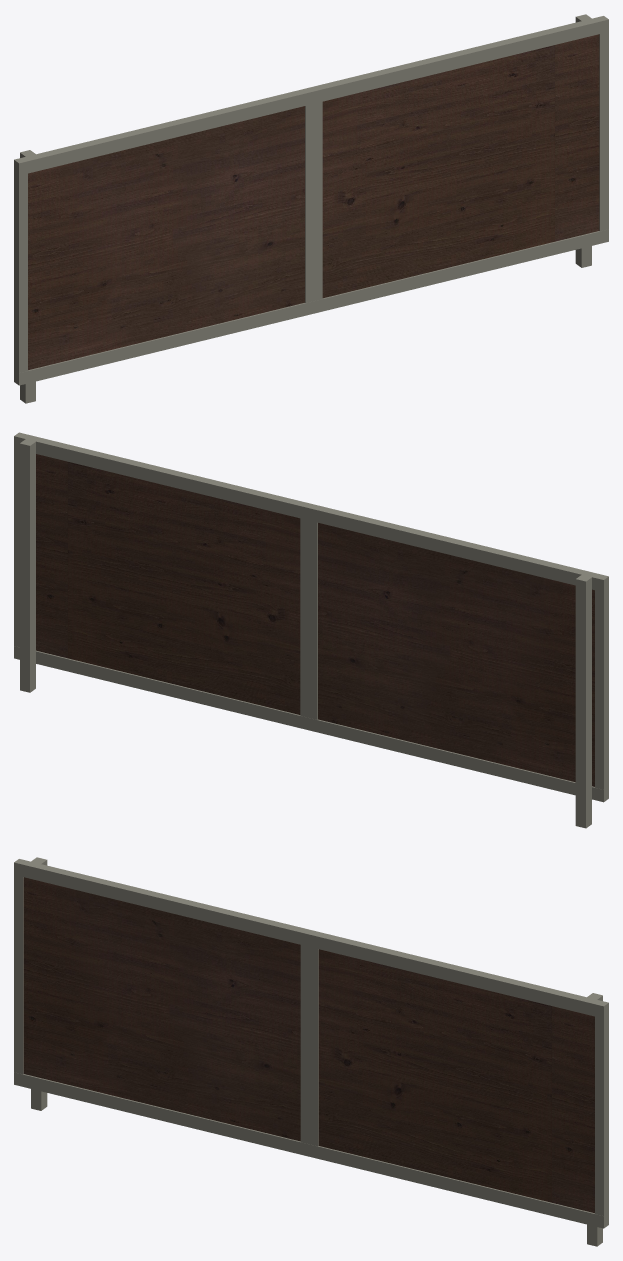
The model's file is EAFboarddesignryoumen_w1998-h720_darkpine.fbx.
3 views of the same model, one above another, from view 1: azimuth 30°, elevation 25°; view 2: azimuth 150°, elevation 25°; view 3: azimuth 330°, elevation 25° (orthographic).
Parts seen in each view (by area): view 1: EAFboarddesignryoumen_w1998-h720_darkpine; view 2: EAFboarddesignryoumen_w1998-h720_darkpine; view 3: EAFboarddesignryoumen_w1998-h720_darkpine.
Boxes of the visible parts, box(x1,y1,x2,y2) form: EAFboarddesignryoumen_w1998-h720_darkpine: box(14, 14, 608, 403); EAFboarddesignryoumen_w1998-h720_darkpine: box(14, 432, 608, 828); EAFboarddesignryoumen_w1998-h720_darkpine: box(14, 857, 608, 1246).
Size of the model in its own units: 200 by 80 by 6.5.
Materials: 3 (3 with a texture image).
